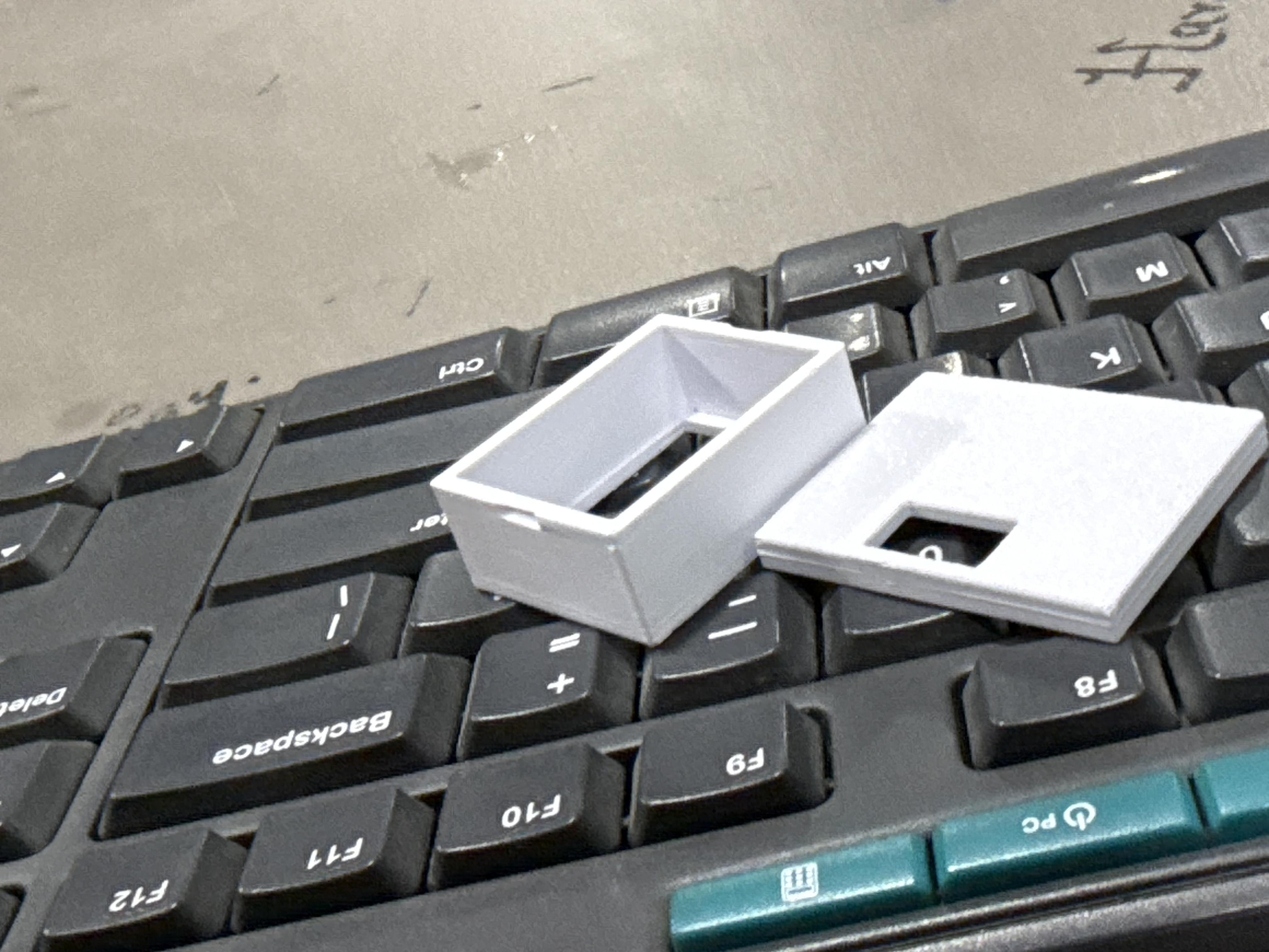enclosure: (429, 313, 865, 647), (757, 362, 1269, 646)
